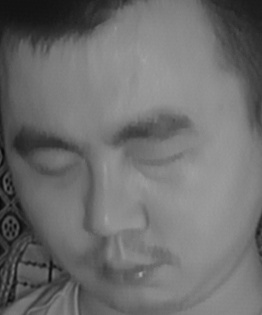blink: (129, 143, 187, 180), (33, 153, 81, 185)
mouth: (89, 244, 163, 291)
